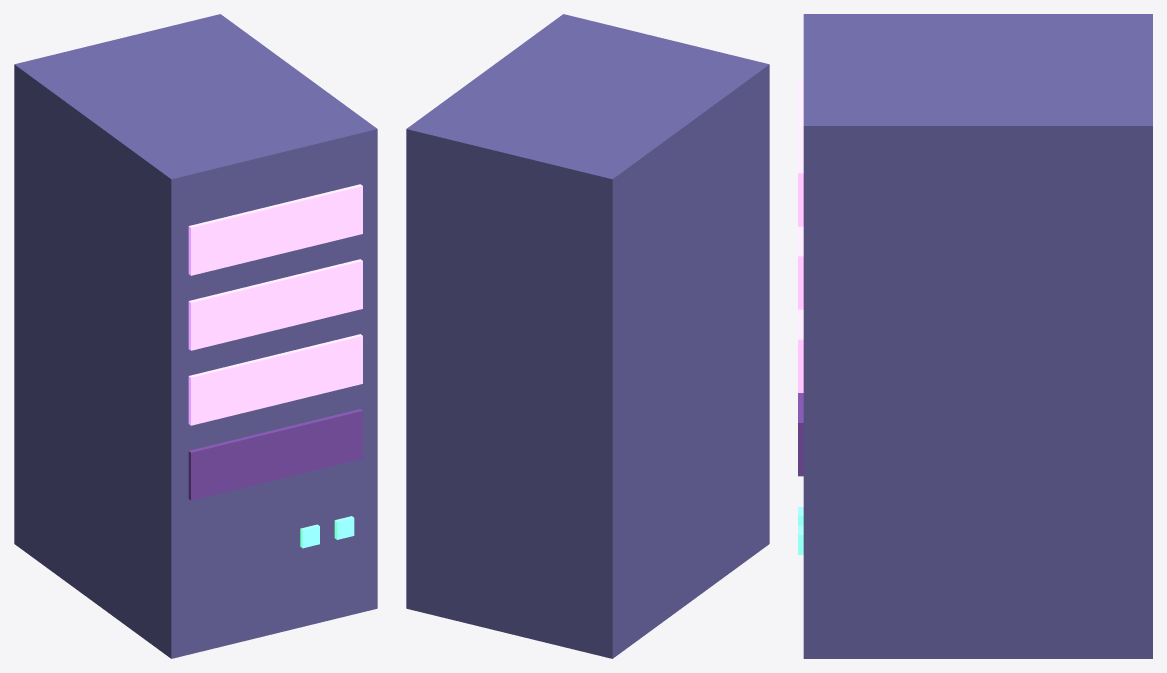
File: server.glb
The picture shows the model from 3 angles, left to right: view 1: azimuth 30°, elevation 25°; view 2: azimuth 150°, elevation 25°; view 3: azimuth 270°, elevation 25°; orthographic projection. The views are drawn at different scales.
Parts seen in each view (by area): view 1: server; view 2: server; view 3: server.
Part boxes in pixels (box(x1,y1,x2,y2)): server: box(14, 14, 377, 658); server: box(406, 14, 769, 658); server: box(798, 14, 1152, 658).
Size of the model in its own units: 0.72 by 1.6 by 0.965.
